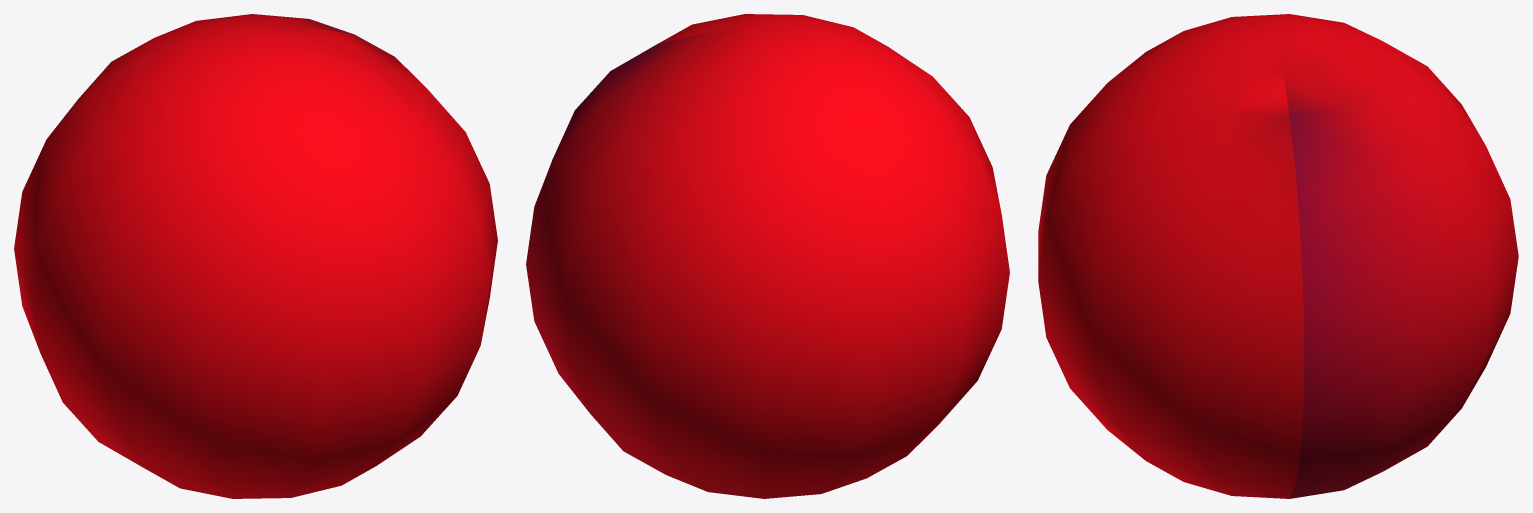
Rendered from figure_sphere.obj.
3 renders of one model, left to right at view 1: azimuth 30°, elevation 25°; view 2: azimuth 150°, elevation 25°; view 3: azimuth 270°, elevation 25°, orthographic.
Visible parts, largest first — view 1: Sphere; view 2: Sphere; view 3: Sphere.
Boxes of the visible parts, <box> form: Sphere: <box>14,14,497,498</box>; Sphere: <box>526,14,1009,498</box>; Sphere: <box>1038,14,1518,498</box>.
Size of the model in its own units: 0.5956 by 0.6 by 0.5913.
